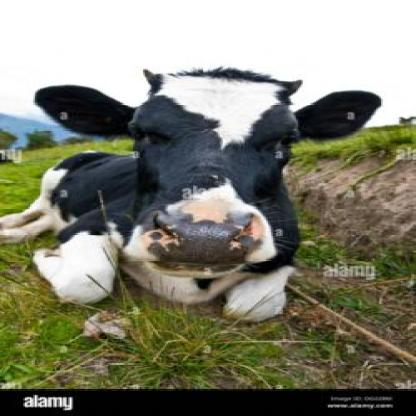lower: (187, 264, 219, 272)
mouth: (142, 206, 261, 278)
upper: (201, 224, 224, 242)
